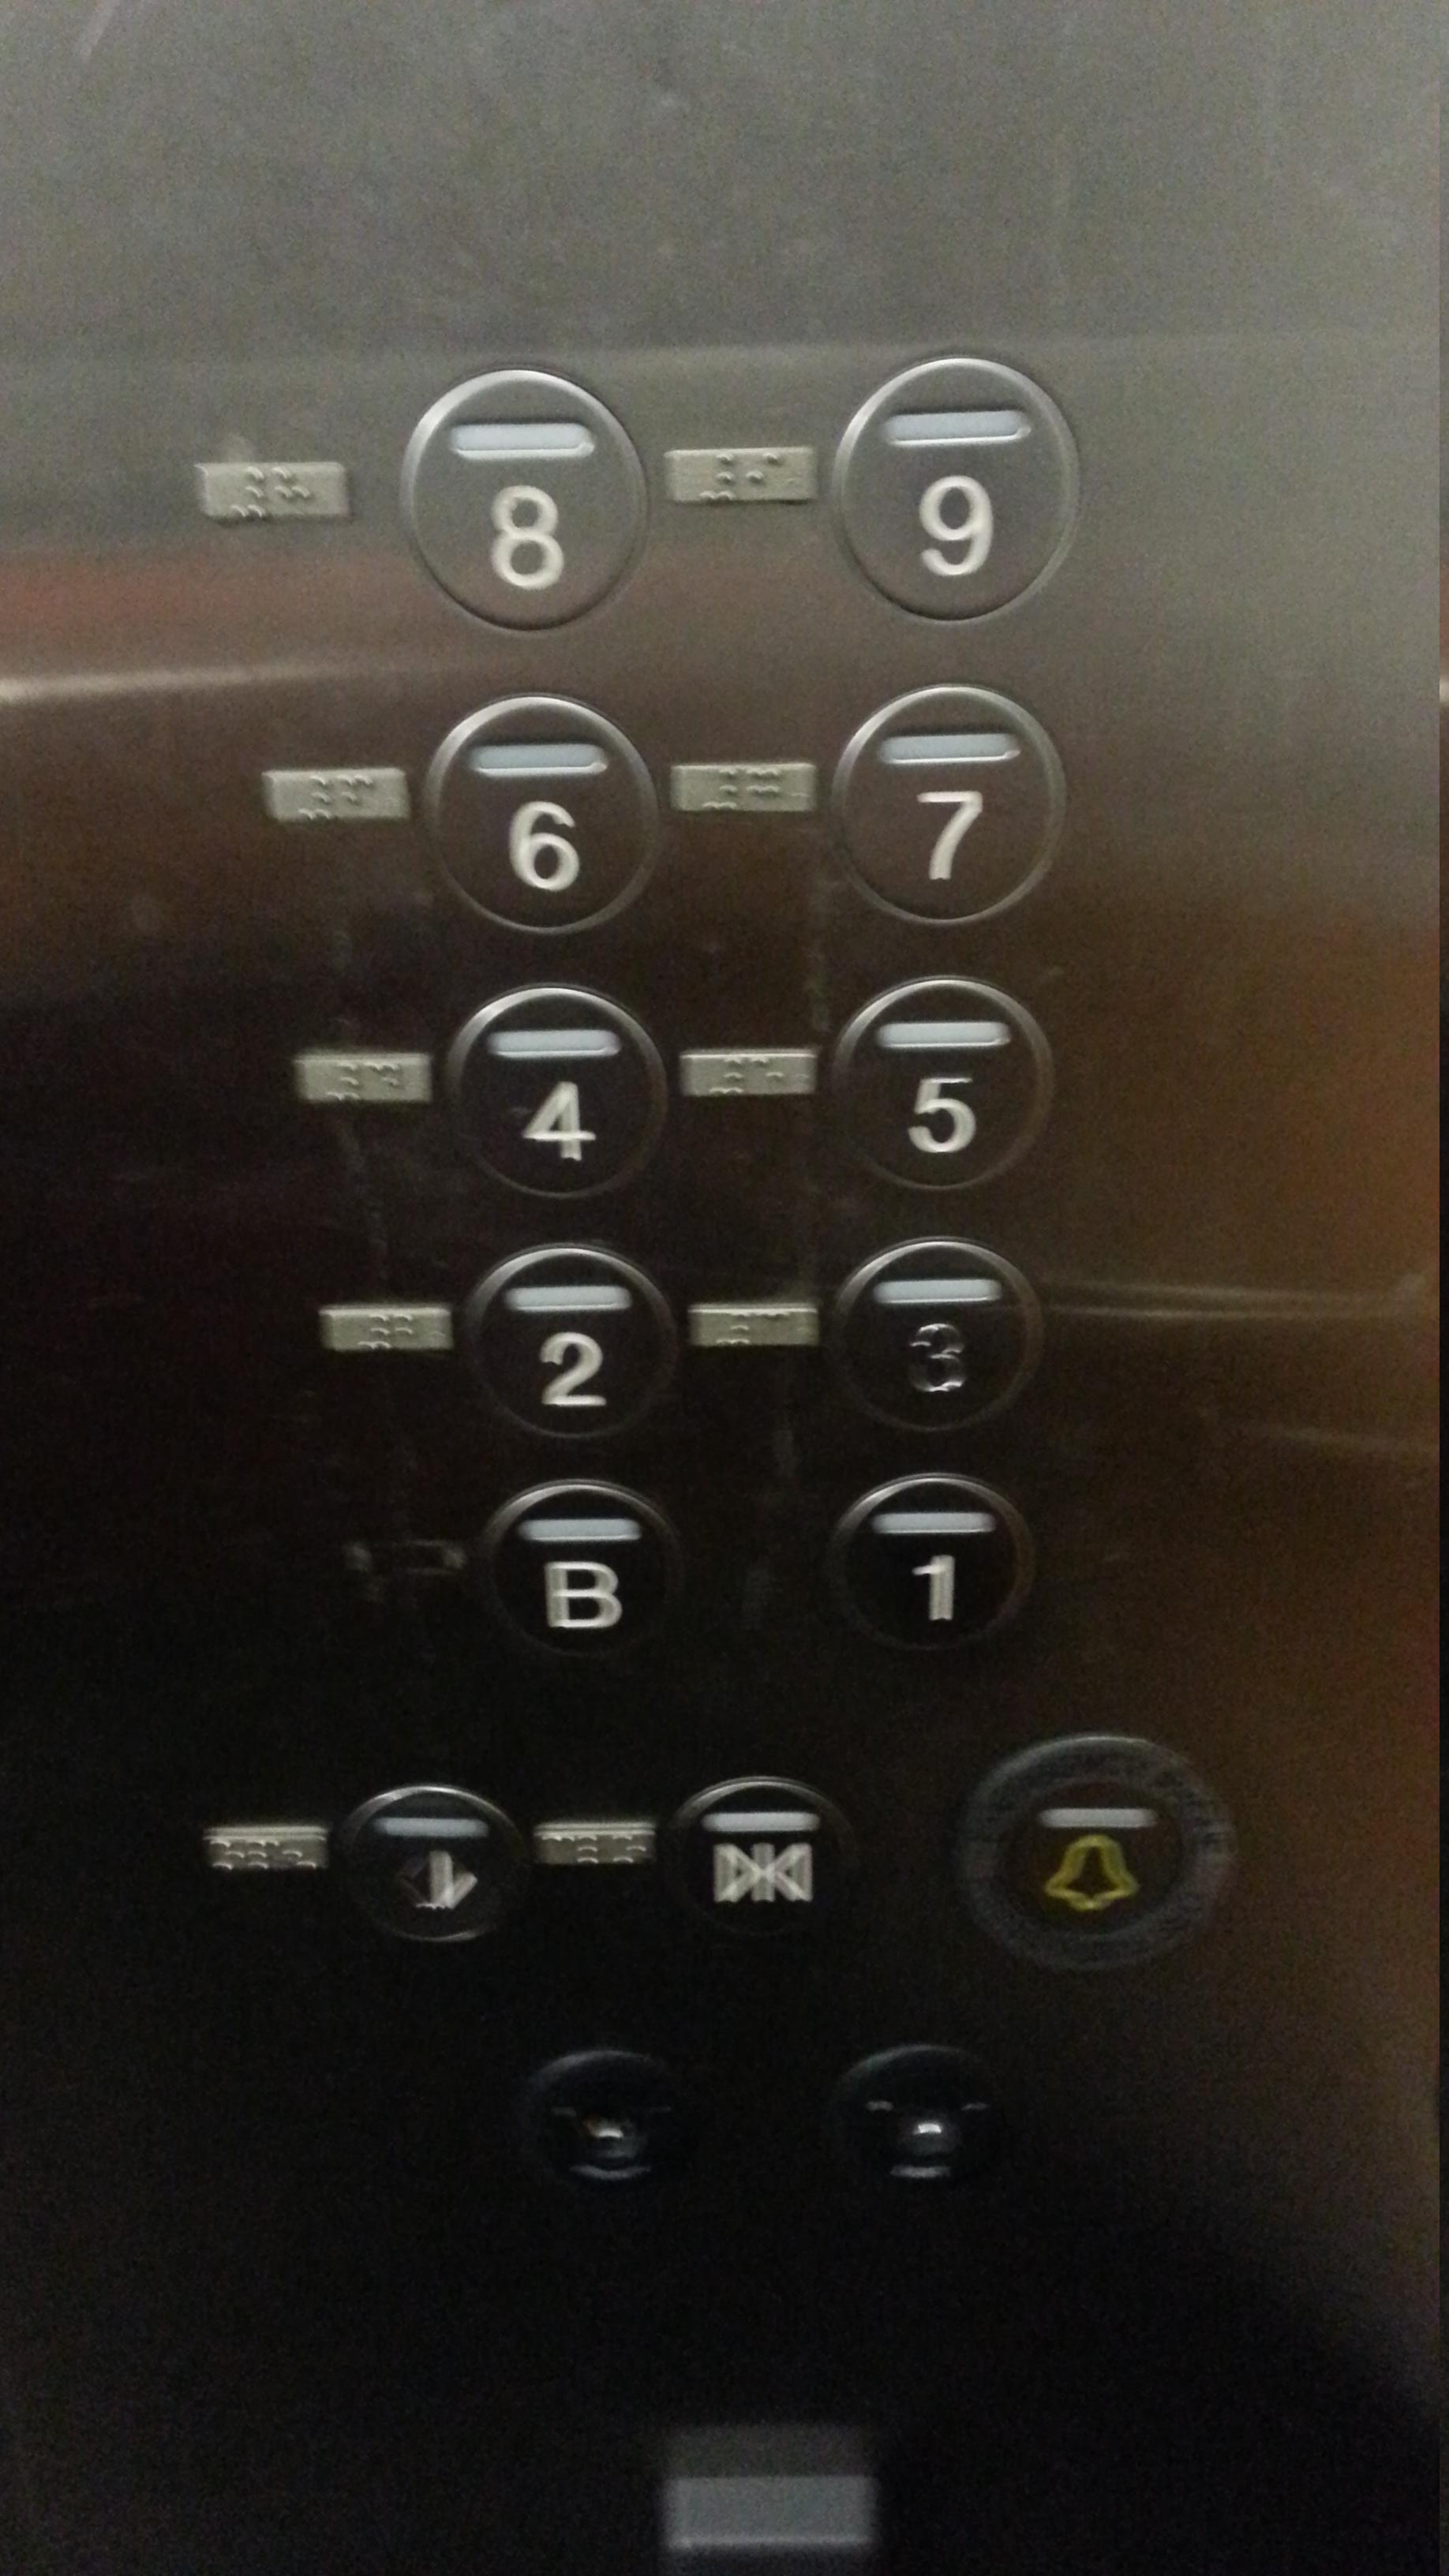1: (817, 1458, 1047, 1675)
2: (456, 1233, 686, 1451)
3: (823, 1223, 1053, 1444)
4: (426, 975, 678, 1221)
5: (817, 964, 1069, 1210)
6: (409, 683, 667, 945)
7: (816, 671, 1074, 934)
8: (386, 356, 658, 642)
9: (812, 343, 1085, 630)
B: (462, 1463, 694, 1683)
alarm: (936, 1720, 1253, 1987)
close: (658, 1764, 862, 1957)
keyhole: (506, 2020, 709, 2215), (816, 2028, 1019, 2220)
open: (327, 1767, 531, 1962)
